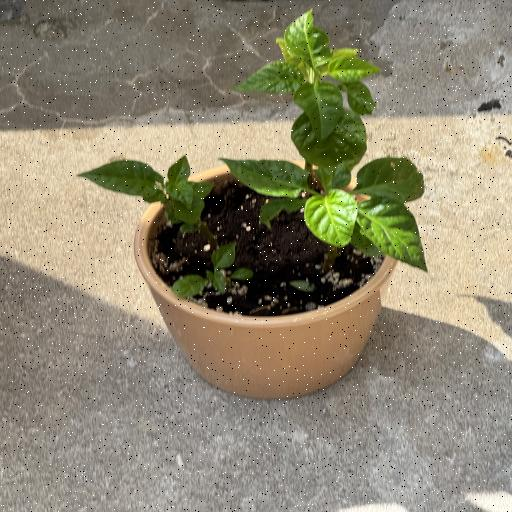Plant Pot: (130, 160, 398, 402)
